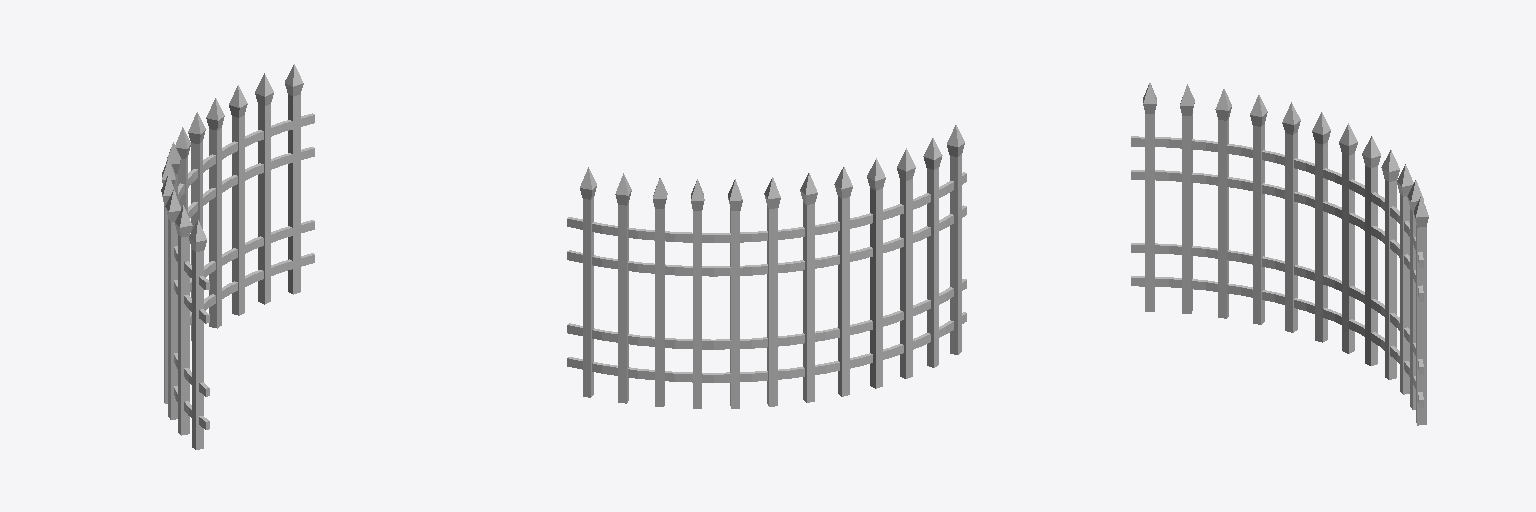
File: ironFenceCurve.obj
The picture shows the model from 3 angles: view 1: azimuth 30°, elevation 25°; view 2: azimuth 150°, elevation 25°; view 3: azimuth 270°, elevation 25°; orthographic projection.
Parts seen in each view (by area): view 1: ironFenceCurve; view 2: ironFenceCurve; view 3: ironFenceCurve.
Boxes of the visible parts, <box> form: ironFenceCurve: <box>161,64,314,449</box>; ironFenceCurve: <box>567,125,966,408</box>; ironFenceCurve: <box>1131,83,1428,425</box>.
Size of the model in its own units: 0.9725 by 0.8239 by 0.9746.